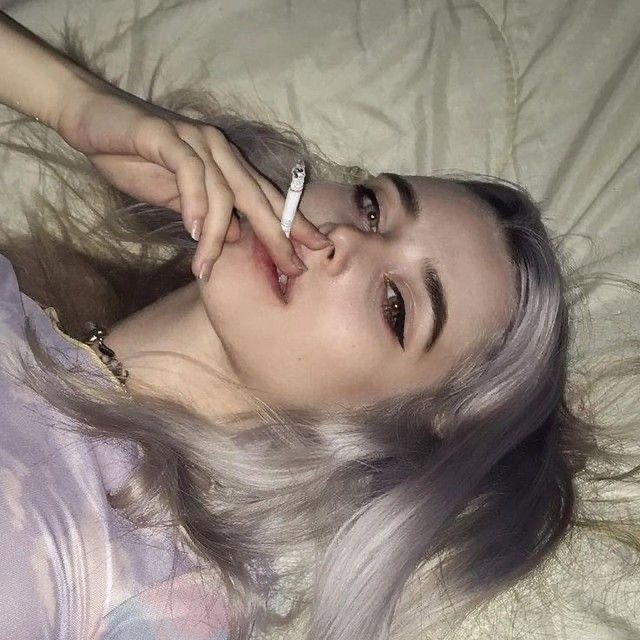cigarette: (262, 148, 332, 287)
